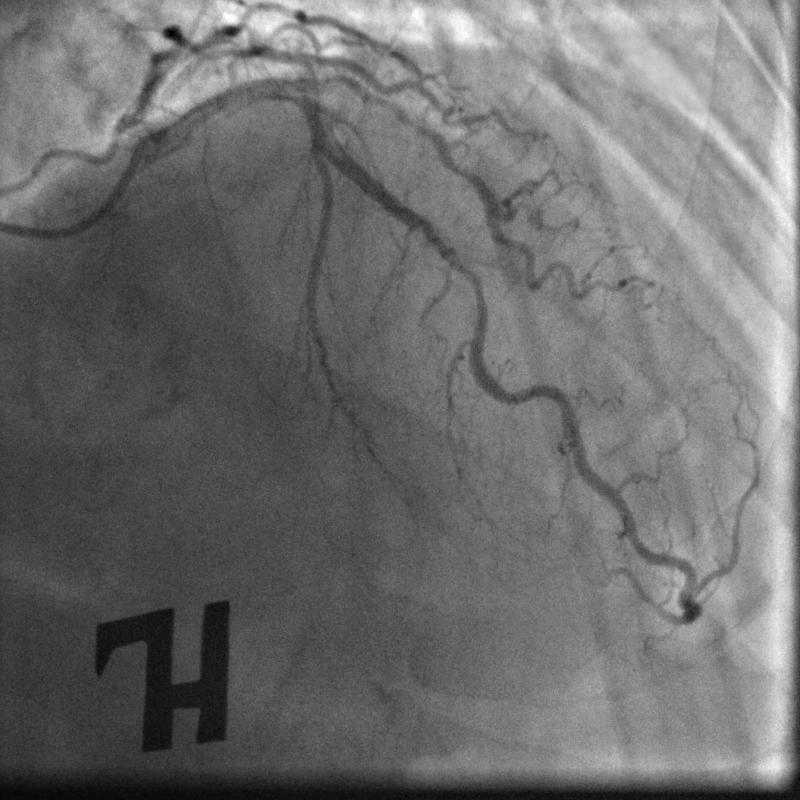Stenosis: (455, 254, 491, 335)
